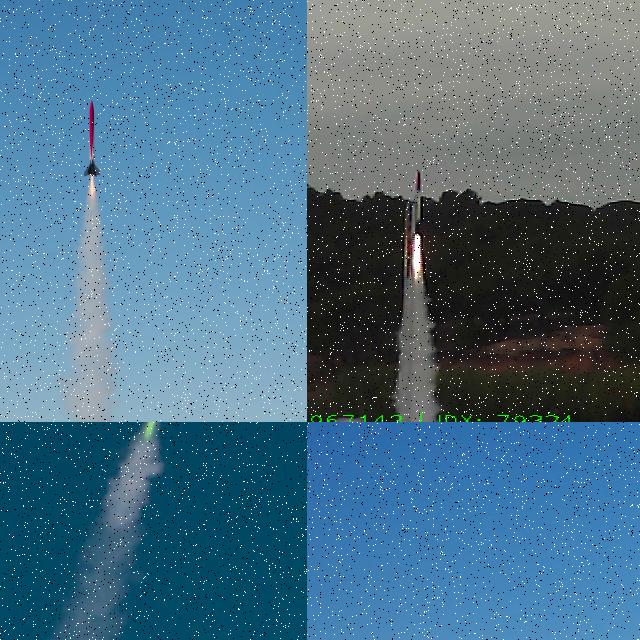Rocket: (82, 100, 102, 178), (412, 170, 424, 236)
